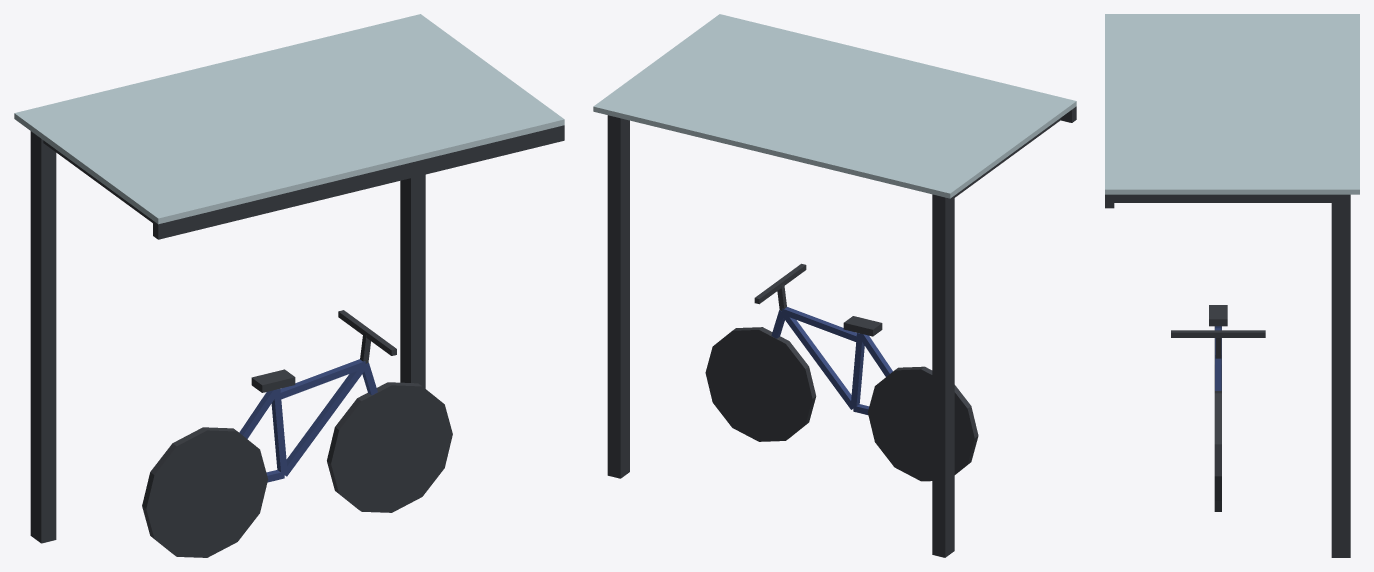
File: scatter-single1.fbx
3 views of the same model, side by side, from view 1: azimuth 30°, elevation 25°; view 2: azimuth 150°, elevation 25°; view 3: azimuth 270°, elevation 25° (orthographic). The views are drawn at different scales.
Visible parts, largest first — view 1: a2000/800/scatter-single1; view 2: a2000/800/scatter-single1; view 3: a2000/800/scatter-single1.
Boxes of the visible parts, <box> form: a2000/800/scatter-single1: <box>14,14,564,557</box>; a2000/800/scatter-single1: <box>593,14,1076,557</box>; a2000/800/scatter-single1: <box>1105,14,1359,557</box>.
Size of the model in its own units: 2.2 by 2.18 by 1.35.
